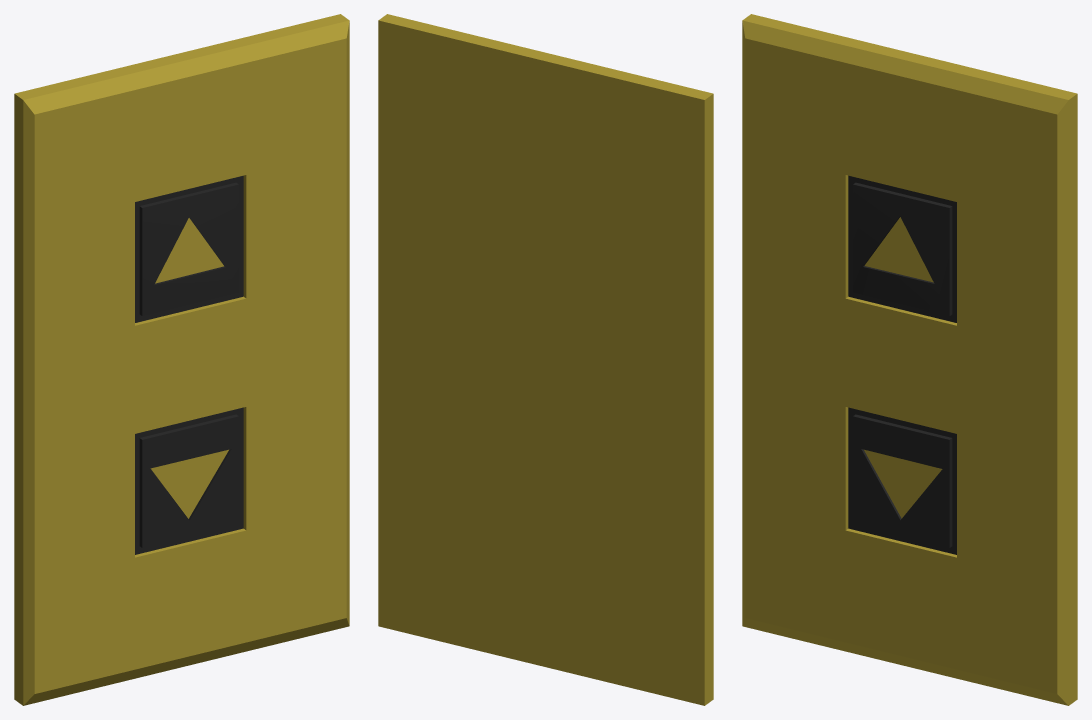
File: Elevator Button.fbx
3 renders of one model, left to right at view 1: azimuth 30°, elevation 25°; view 2: azimuth 150°, elevation 25°; view 3: azimuth 330°, elevation 25°, orthographic.
Parts seen in each view (by area): view 1: Elevator Button NEU; view 2: Elevator Button NEU; view 3: Elevator Button NEU.
Part boxes in pixels (x1,y1,x2,y2): Elevator Button NEU: [14, 14, 349, 705]; Elevator Button NEU: [378, 14, 713, 705]; Elevator Button NEU: [742, 14, 1077, 705].
Size of the model in its own units: 22.28 by 39.53 by 1.66.
